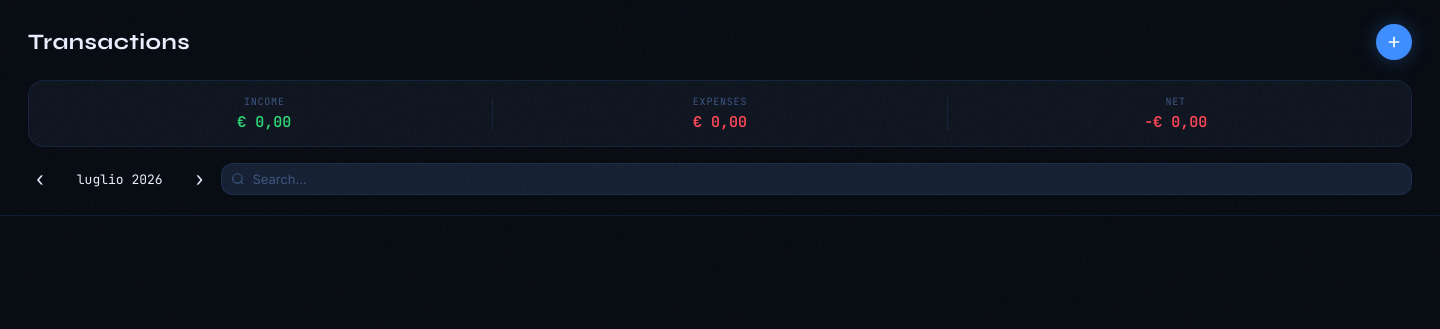
Test: TransactionsPage › filters within the loaded month via search
Type "Q8" into the field with placeholder "Search..." at (817, 179), box [221,163,1412,195]
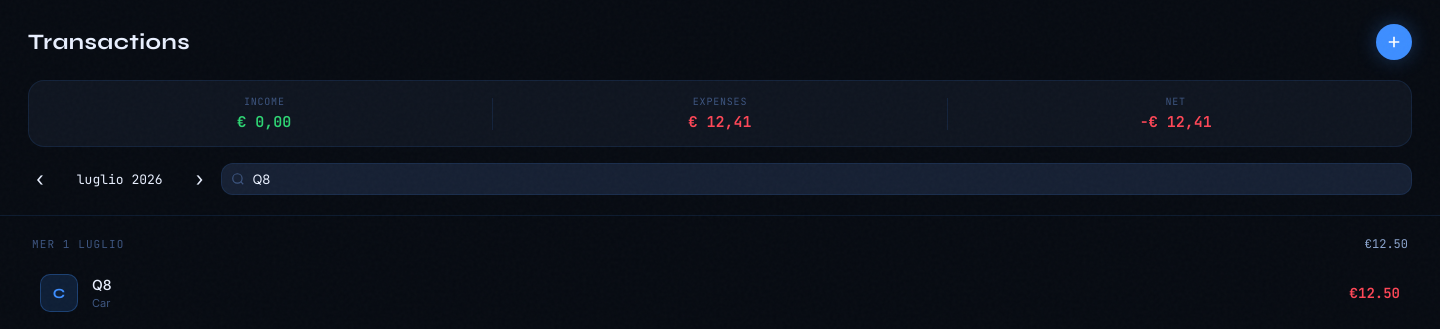
expect the text "Q8" is shown: met, box [92,276,112,293]
